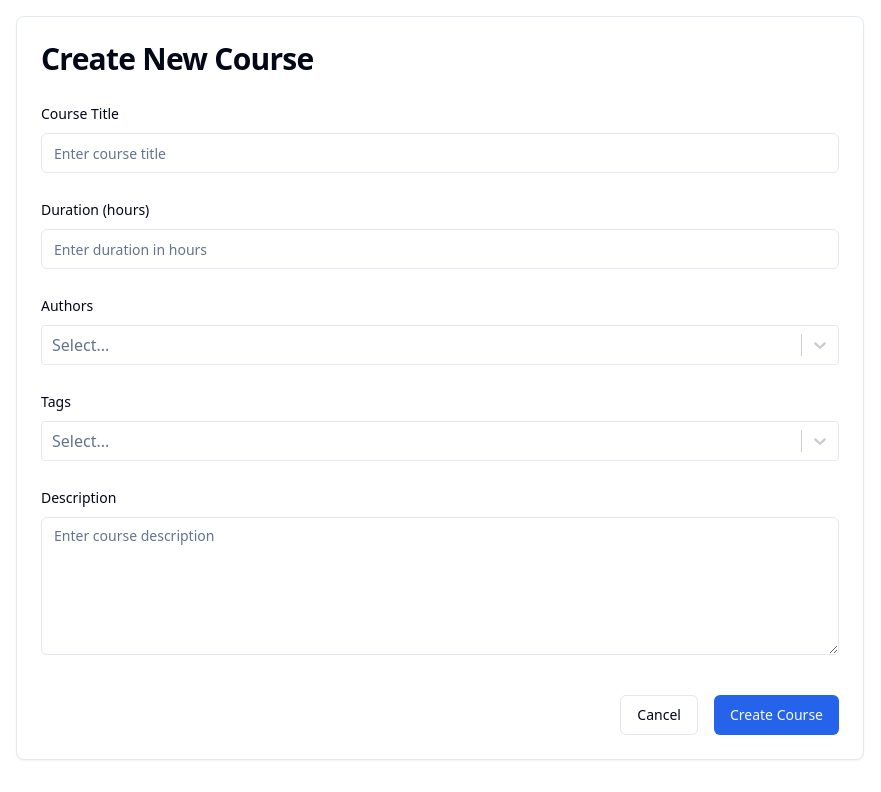
Scenario: CreateCourse › submits form with valid data
In the field labelled "Course Title": {"x": 440, "y": 153} [41,133,839,173], type "Test Course"
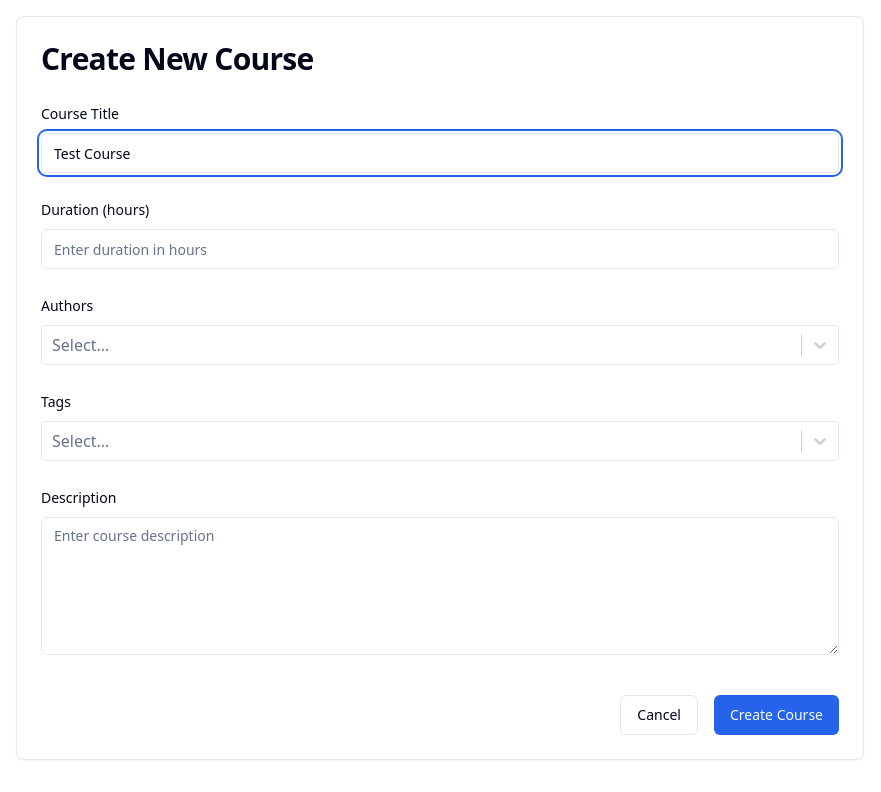
In the number field labelled "Duration (hours)": {"x": 440, "y": 249} [41,229,839,269], type "10"
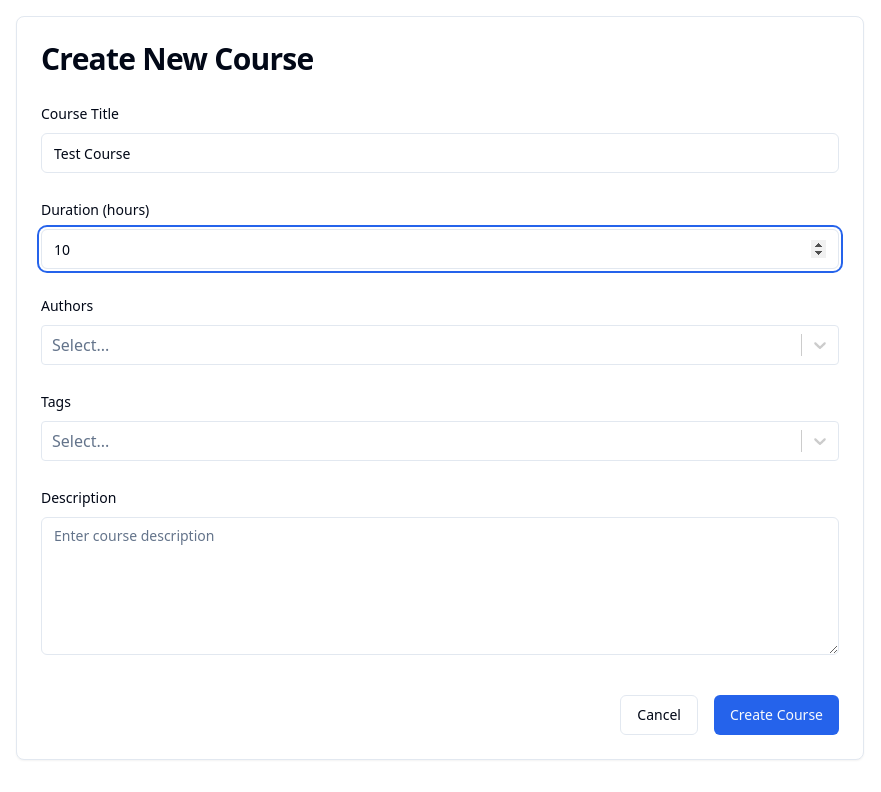
In the text box labelled "Description": {"x": 440, "y": 586} [41,517,839,655], type "Test description"
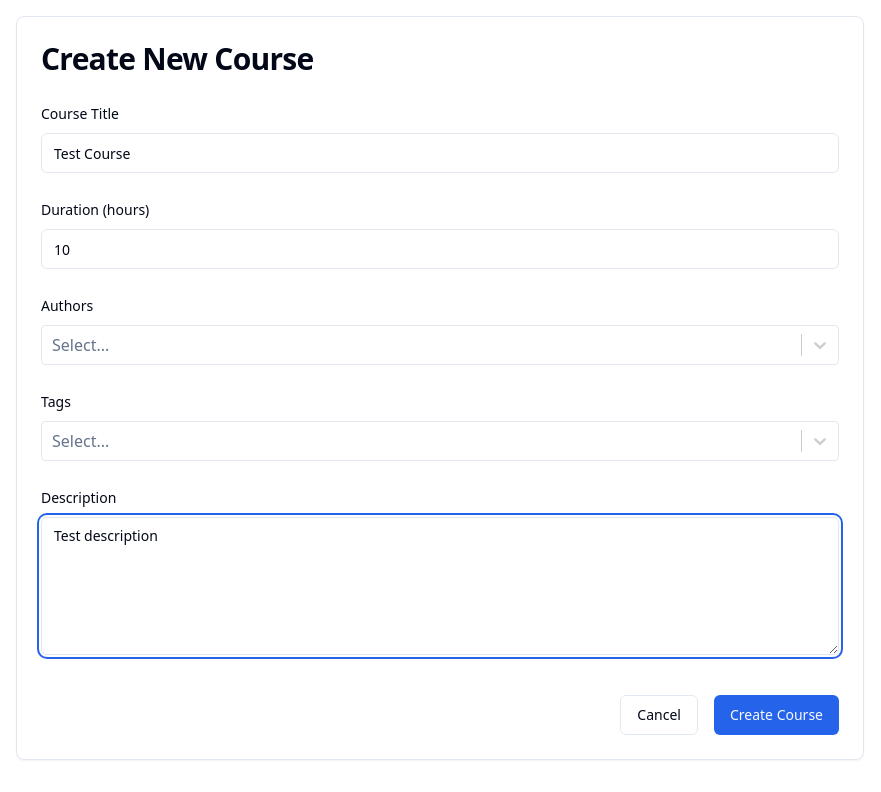
Click the button "Create Course": {"x": 776, "y": 715} [714,695,839,735]
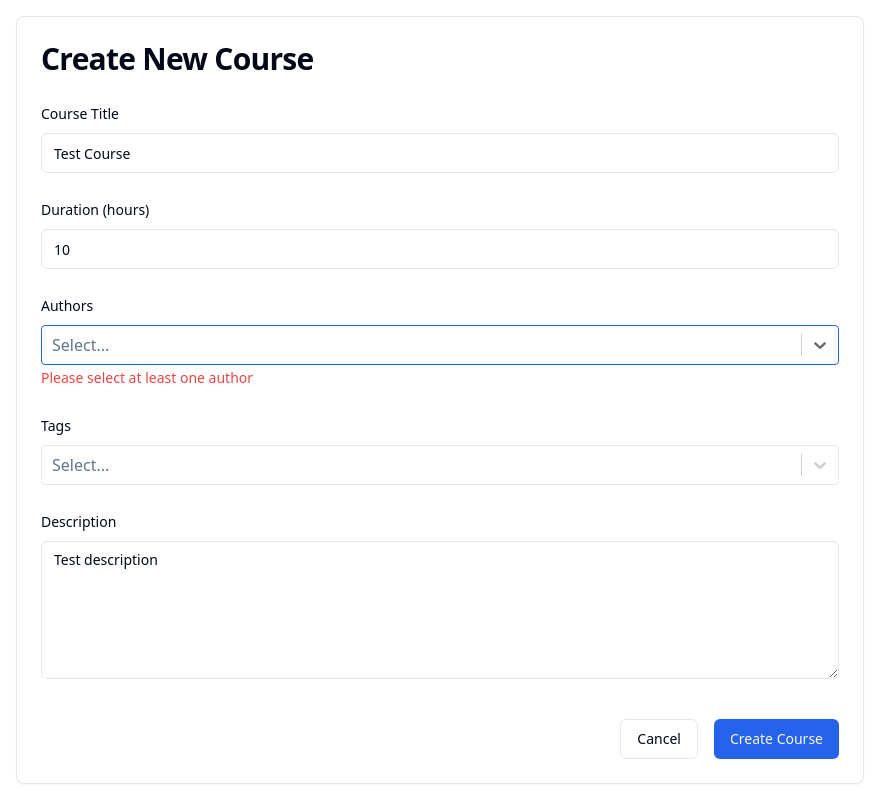
Check: the text "Please select at least one author" is shown, box [41,368,253,387]
